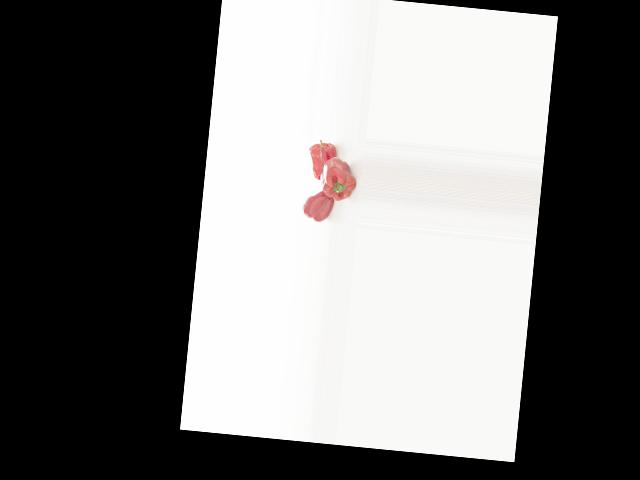bell_pepper: (301, 191, 336, 225)
